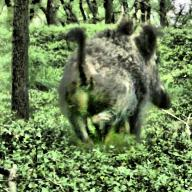boar: (58, 16, 192, 144)
